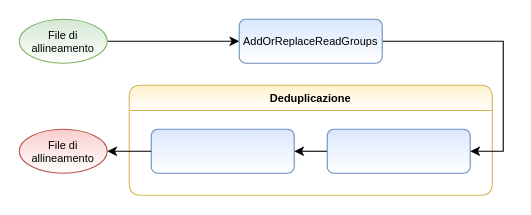
Some shapes in this 531 by 215 pixel diagram are drawn without their labels. Here are the shapes that lost their labels. From the top down, the centre of each, then its label:
the point at 222,150: Samtools - indexing
the point at 398,150: MarkDuplicates
